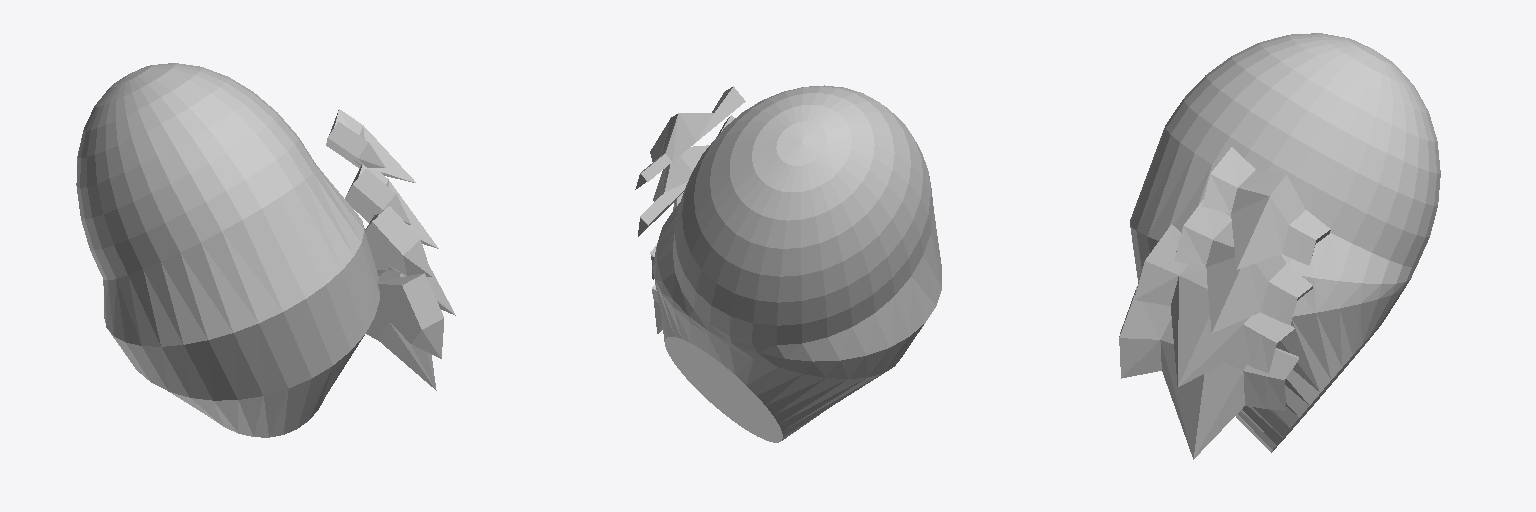
File: LBmomo.obj
3 renders of one model, left to right at view 1: azimuth 30°, elevation 25°; view 2: azimuth 150°, elevation 25°; view 3: azimuth 270°, elevation 25°, orthographic.
Parts seen in each view (by area): view 1: 立方体.017; view 2: 立方体.017; view 3: 立方体.017.
Boxes of the visible parts, box(x1,y1,x2,y2) form: 立方体.017: box(76, 63, 455, 437); 立方体.017: box(635, 85, 941, 442); 立方体.017: box(1119, 33, 1440, 459).
Bounding box in the file's own units: 0.8484 × 0.9998 × 0.7922.